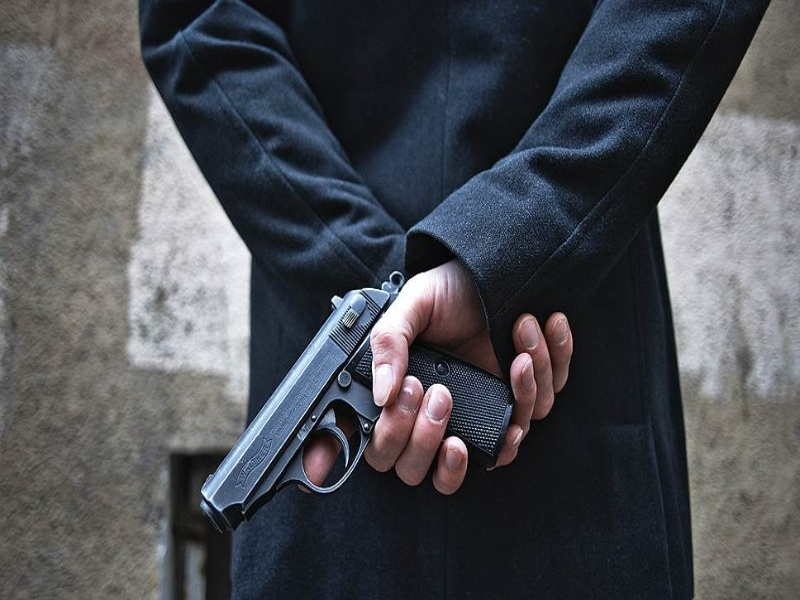person: (137, 1, 774, 600)
weapon: (198, 270, 514, 532)
